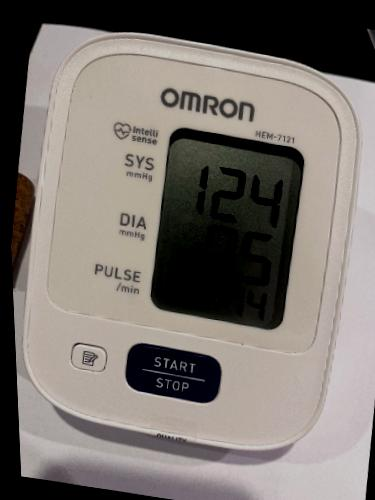bpm: (142, 122, 308, 336)
